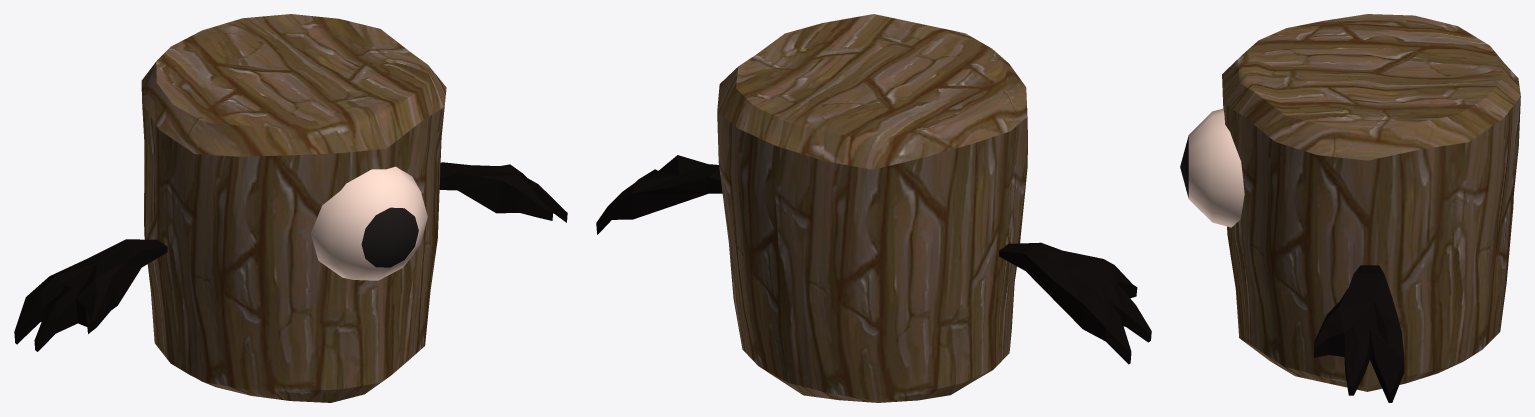
Rendered from boss 1.FBX.
3 renders of one model, left to right at view 1: azimuth 30°, elevation 25°; view 2: azimuth 150°, elevation 25°; view 3: azimuth 270°, elevation 25°, orthographic. The views are drawn at different scales.
Visible parts, largest first — view 1: Cylinder108, Sphere004, Box440, Box439; view 2: Cylinder108, Box440, Box439; view 3: Cylinder108, Box439, Sphere004.
Boxes of the visible parts, <box> form: Cylinder108: <box>141,14,446,402</box>; Sphere004: <box>310,166,427,280</box>; Box440: <box>14,239,167,351</box>; Box439: <box>439,162,567,222</box>; Cylinder108: <box>717,14,1027,402</box>; Box440: <box>999,242,1151,364</box>; Box439: <box>596,155,722,234</box>; Cylinder108: <box>1222,14,1520,391</box>; Box439: <box>1314,265,1404,402</box>; Sphere004: <box>1180,108,1244,227</box>.
Size of the model in its own units: 372 by 213 by 193.
Materials: 4 (1 with a texture image).
